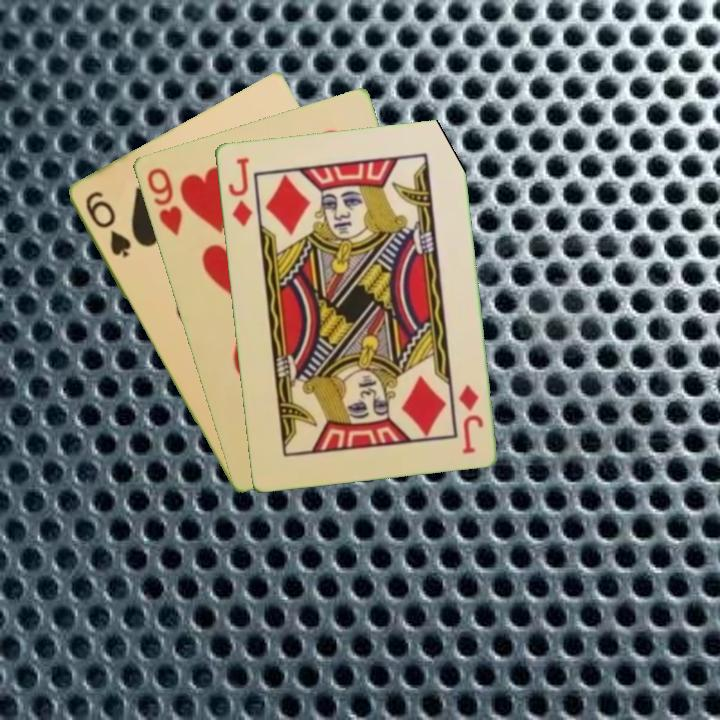6s: (81, 187, 134, 260)
9h: (143, 164, 185, 238)
Jd: (224, 153, 255, 229), (455, 381, 486, 457)
